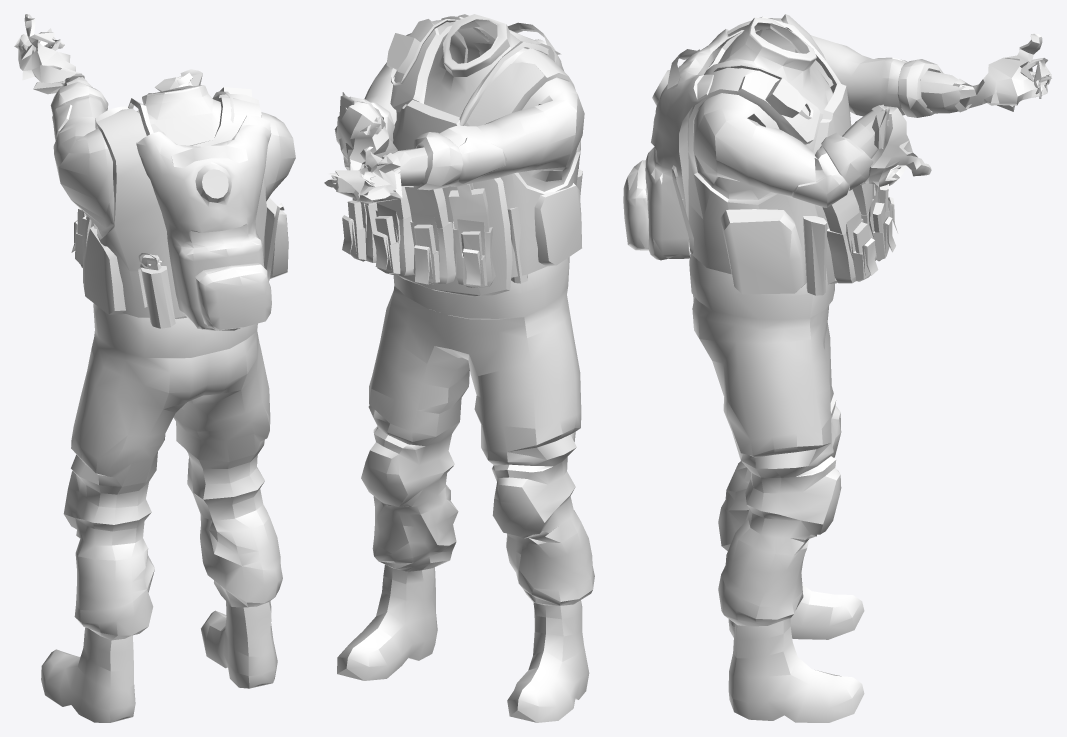
The model's file is stf_ak.glb.
The picture shows the model from 3 angles, left to right: view 1: azimuth 30°, elevation 25°; view 2: azimuth 150°, elevation 25°; view 3: azimuth 270°, elevation 25°; orthographic projection. The views are drawn at different scales.
Visible parts, largest first — view 1: body_STF, gear_STF; view 2: body_STF, gear_STF; view 3: body_STF, gear_STF.
Boxes of the visible parts, bbox=[...] form: body_STF: bbox=[14, 14, 295, 722]; gear_STF: bbox=[71, 87, 288, 330]; body_STF: bbox=[324, 14, 594, 722]; gear_STF: bbox=[342, 14, 582, 287]; body_STF: bbox=[682, 14, 1051, 722]; gear_STF: bbox=[623, 16, 897, 295].
Bounding box in the file's own units: 58.79 × 164 × 98.56.
2 materials, 2 textured.
